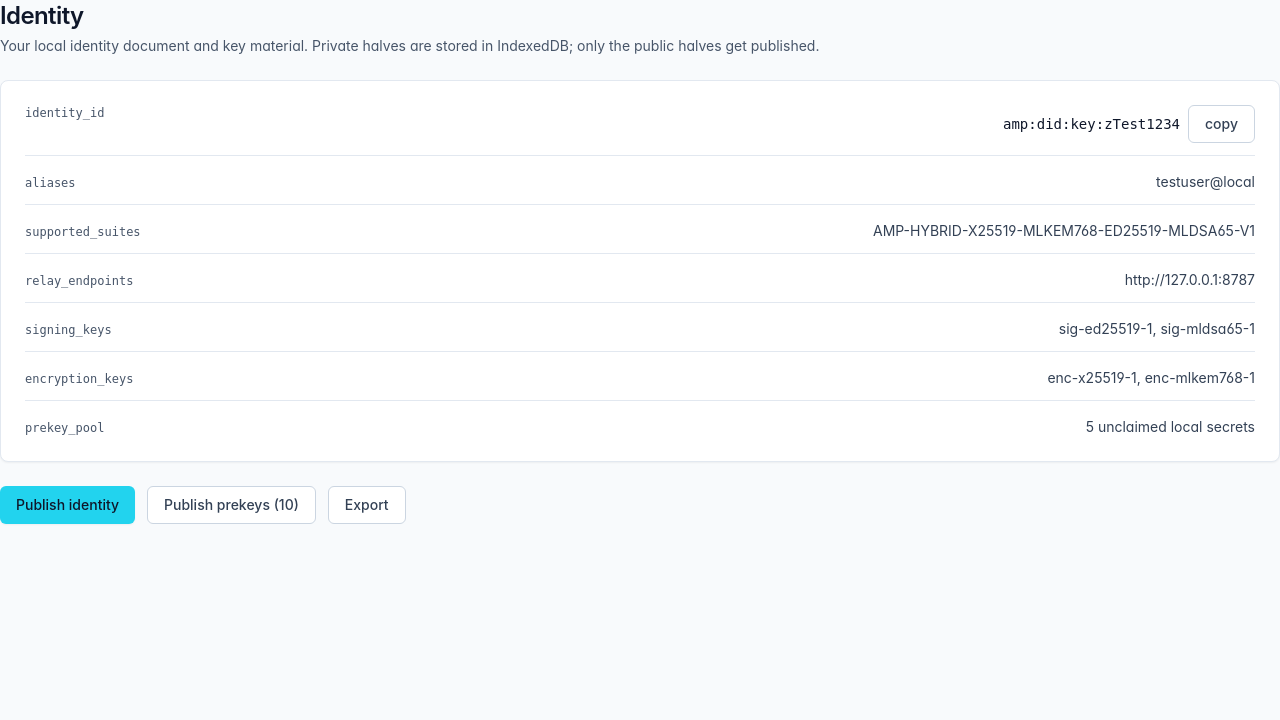
Identity page › hides export JSON when Hide is clicked
Click the button "Export" at (367, 505), box [328, 486, 406, 524]
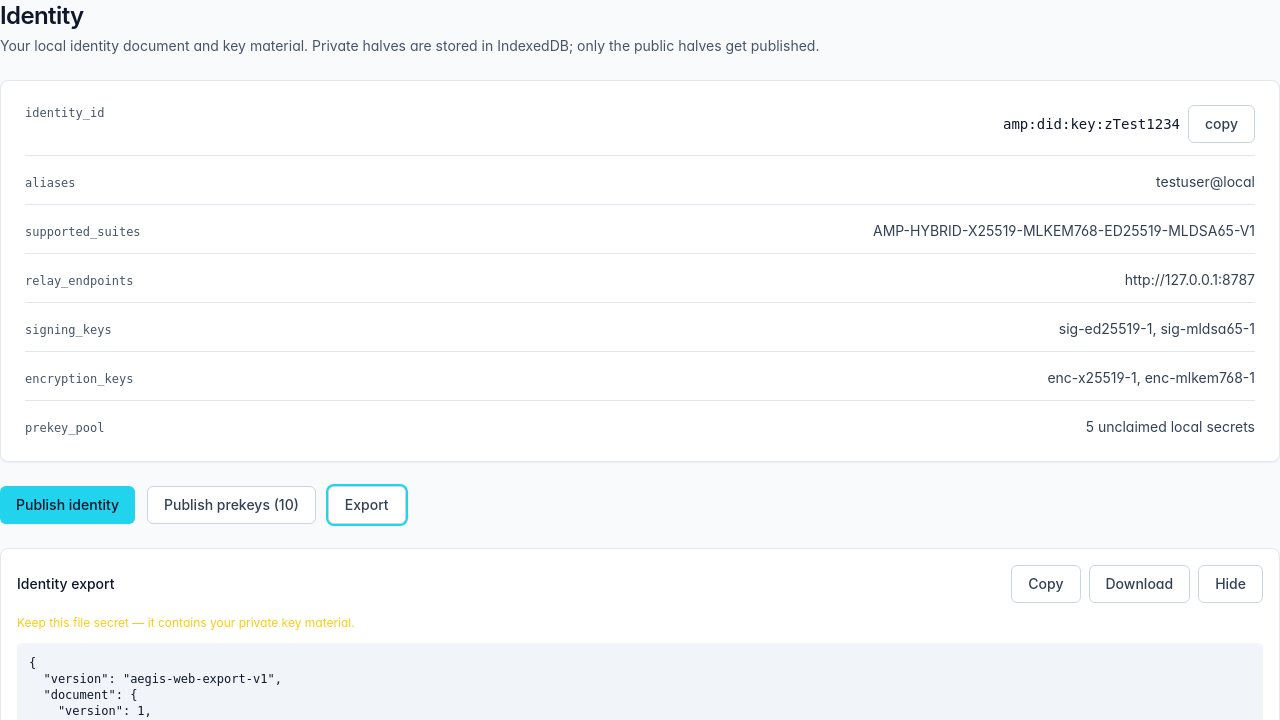
Expected: the text "Keep this file secret" is shown, [17, 615, 355, 630]
Click the button "Hide" at (1231, 584), box [1198, 565, 1263, 603]
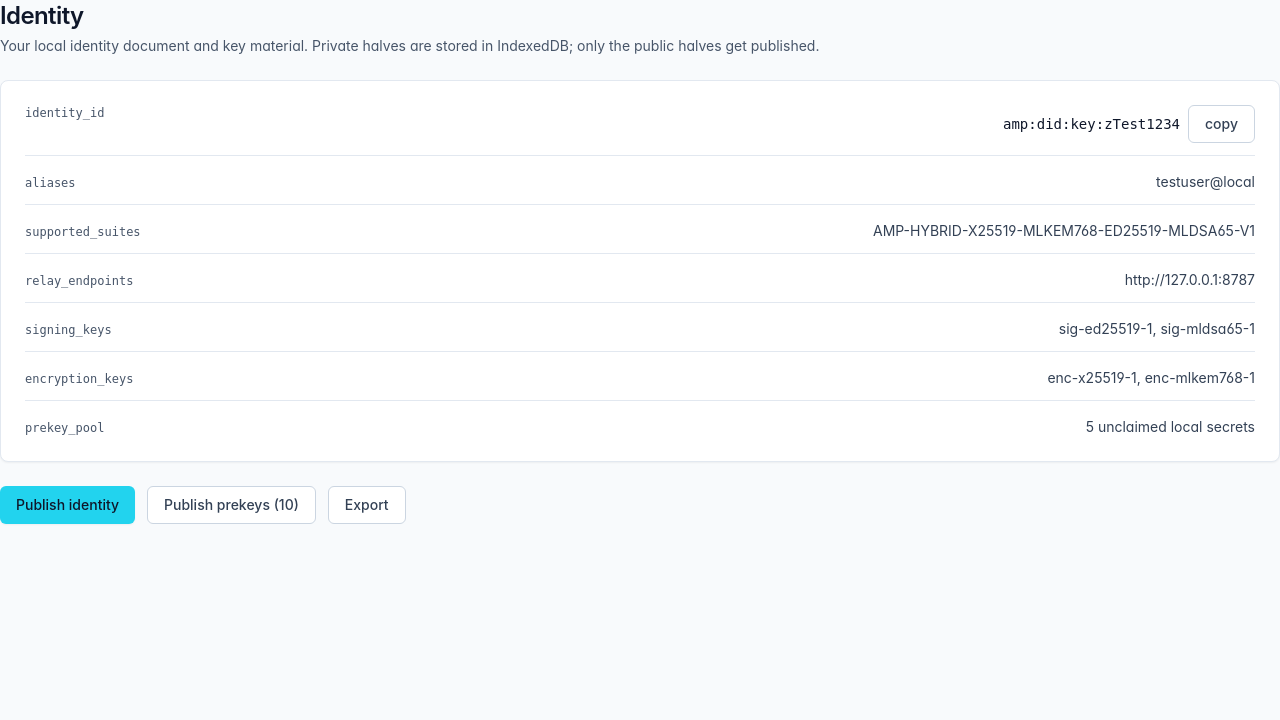
Expected: the text "Keep this file secret" is gone
